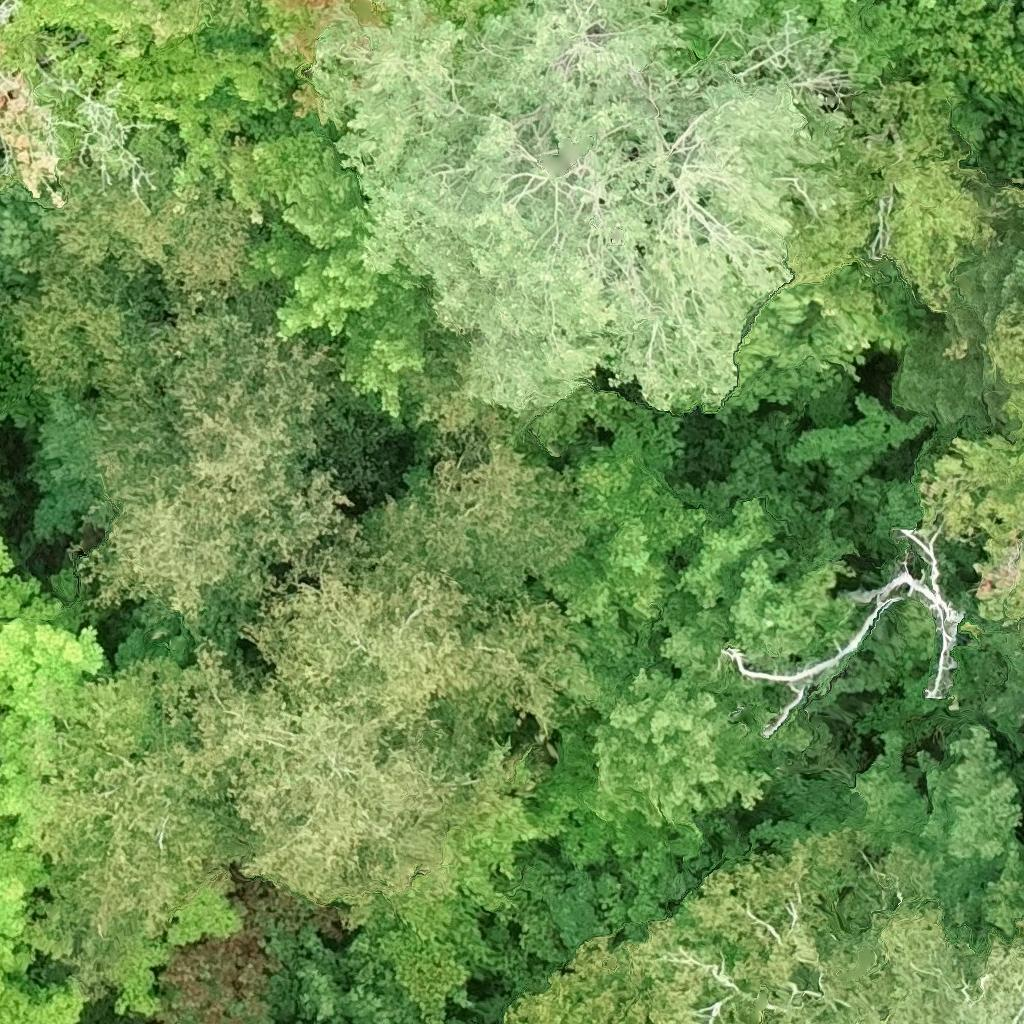crown: (316, 0, 856, 417), (167, 567, 546, 910), (352, 727, 703, 1023), (74, 289, 349, 619), (32, 661, 268, 948), (228, 123, 438, 425), (626, 834, 942, 1023), (0, 0, 274, 204), (784, 83, 1023, 311), (658, 498, 873, 748), (533, 384, 716, 653), (729, 529, 967, 734), (31, 121, 277, 311), (12, 267, 190, 528), (0, 545, 103, 992), (830, 728, 1023, 949), (365, 440, 581, 613), (707, 261, 929, 417), (659, 0, 954, 116), (895, 206, 1023, 433), (592, 672, 770, 833), (115, 35, 295, 182), (916, 432, 1023, 621), (864, 903, 1023, 1023), (929, 0, 1023, 147), (262, 0, 386, 109), (502, 936, 655, 1023), (981, 306, 1023, 438), (0, 974, 81, 1023), (420, 0, 517, 34), (664, 0, 693, 7), (1020, 12, 1023, 30)
